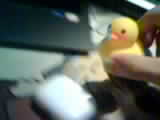duck: (95, 12, 143, 73)
